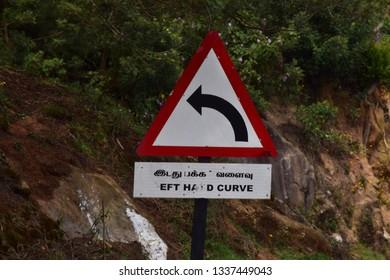Left hand curve: (113, 29, 300, 157)
